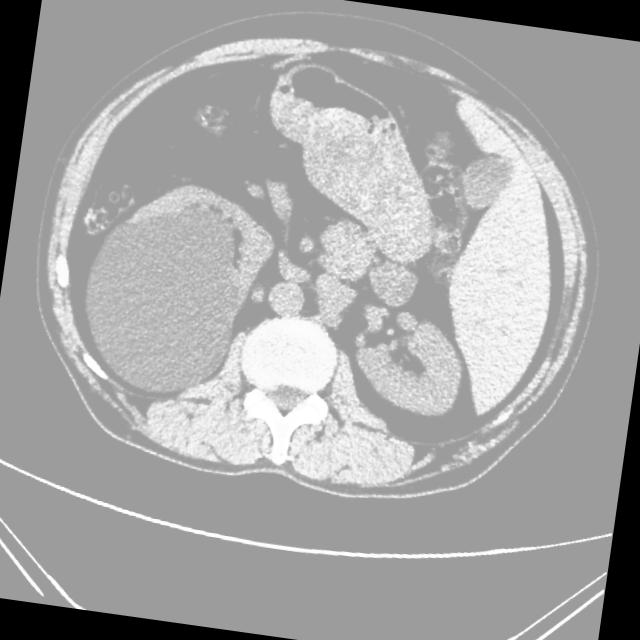cysts: (19, 0, 621, 524)
